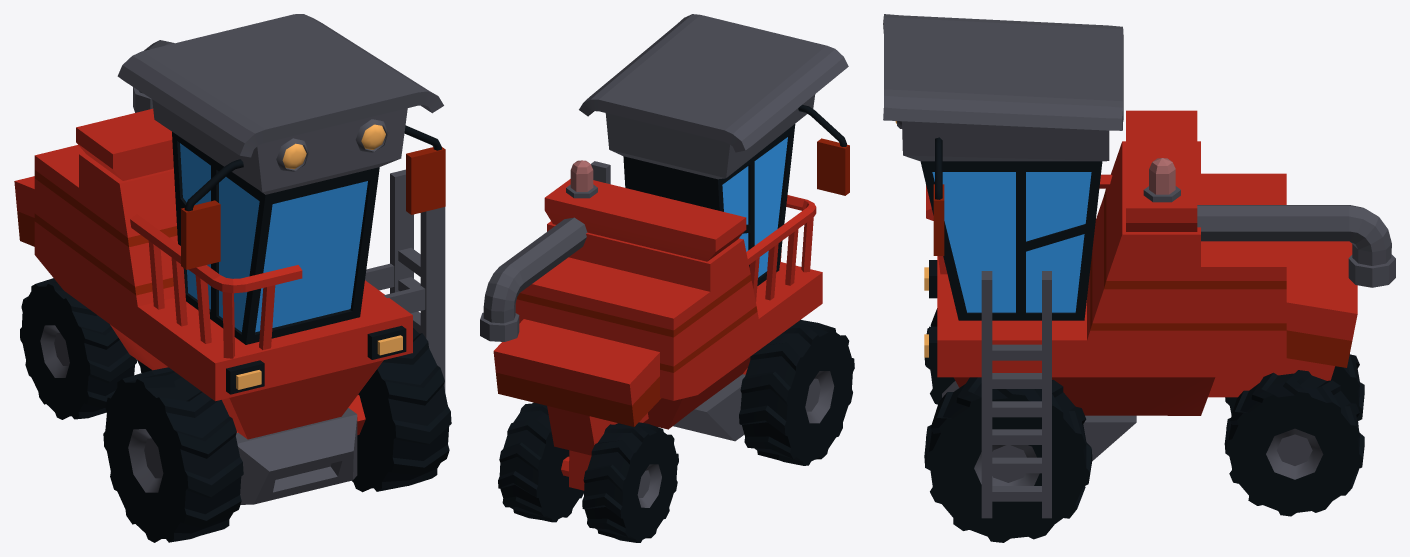
File: Harvester_1.fbx
3 views of the same model, side by side, from view 1: azimuth 30°, elevation 25°; view 2: azimuth 150°, elevation 25°; view 3: azimuth 270°, elevation 25° (orthographic). The views are drawn at different scales.
Visible parts, largest first — view 1: Harvester_1; view 2: Harvester_1; view 3: Harvester_1.
Boxes of the visible parts, box(x1,y1,x2,y2) form: Harvester_1: box(14, 14, 451, 542); Harvester_1: box(480, 14, 854, 542); Harvester_1: box(883, 14, 1395, 542).
Bounding box in the file's own units: 87.97 × 130 × 141.
